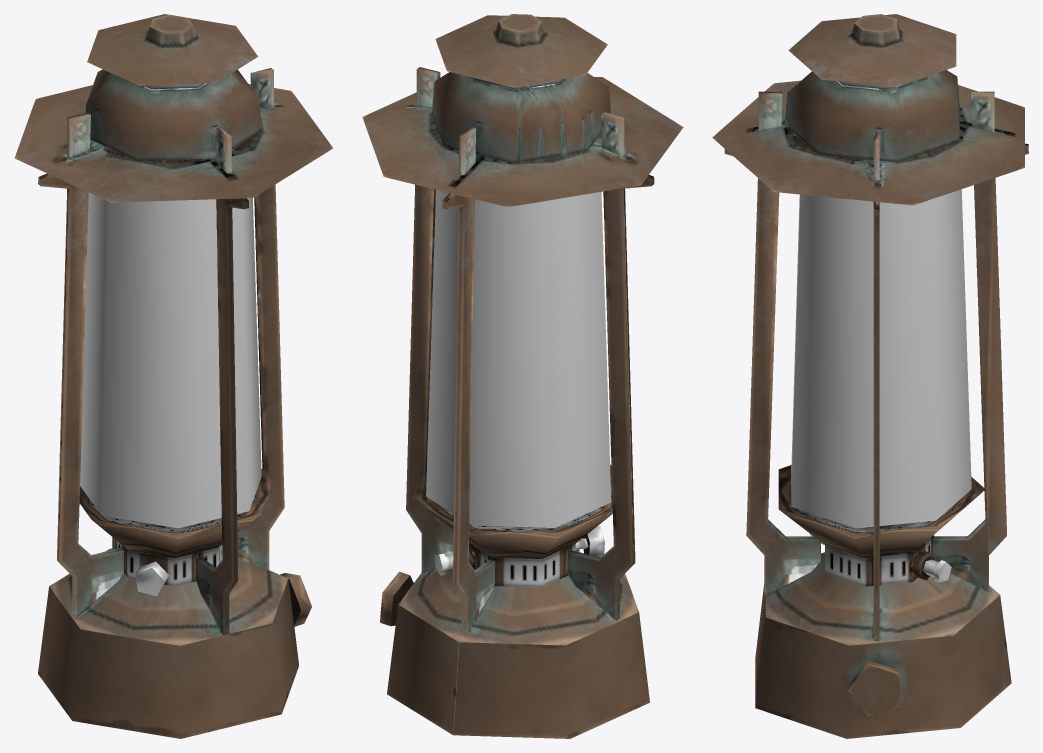
Rendered from StormLantern_01_LOD2.fbx.
3 renders of one model, left to right at view 1: azimuth 30°, elevation 25°; view 2: azimuth 150°, elevation 25°; view 3: azimuth 270°, elevation 25°, orthographic.
Parts seen in each view (by area): view 1: StormLantern_01_LOD2; view 2: StormLantern_01_LOD2; view 3: StormLantern_01_LOD2.
Boxes of the visible parts, x1,y1,x2,y2 form: StormLantern_01_LOD2: (14, 14, 333, 738); StormLantern_01_LOD2: (362, 14, 683, 738); StormLantern_01_LOD2: (712, 14, 1028, 738).
Size of the model in its own units: 262 by 595 by 259.
